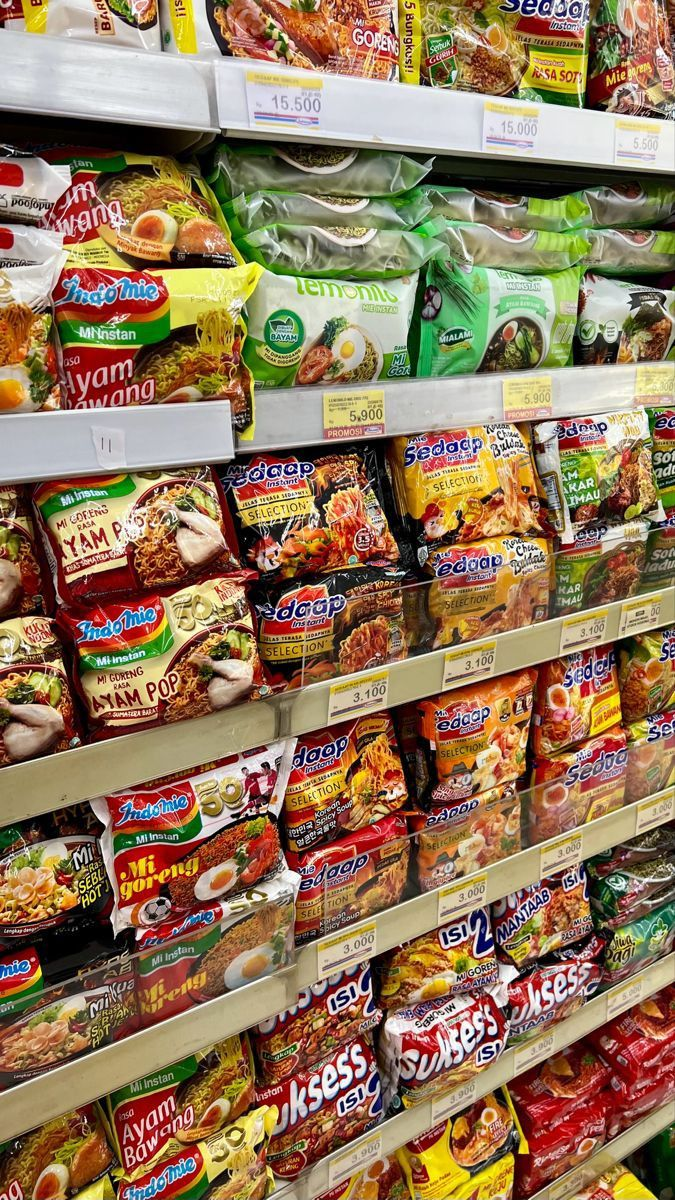Indomie: (57, 582, 267, 710)
Sedaap: (378, 420, 550, 541)
